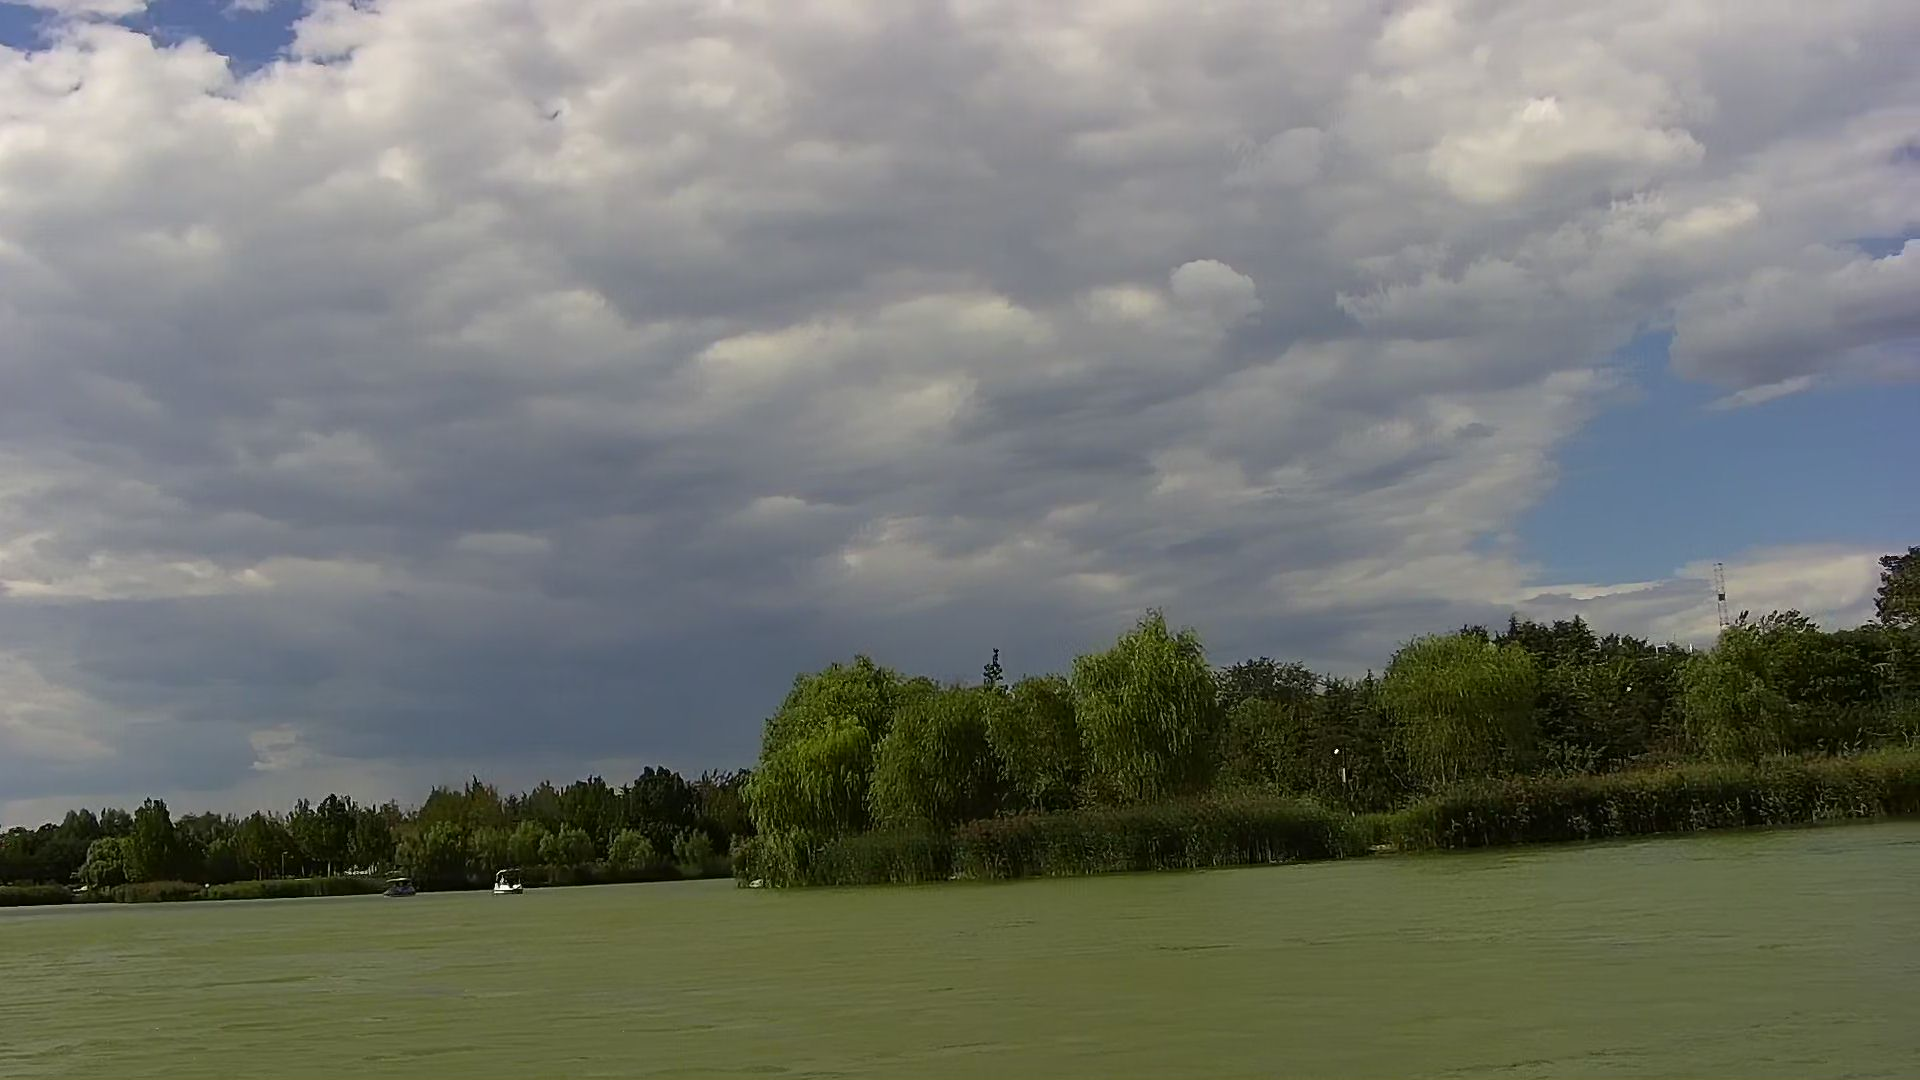boat: (492, 869, 524, 898), (382, 877, 423, 899)
